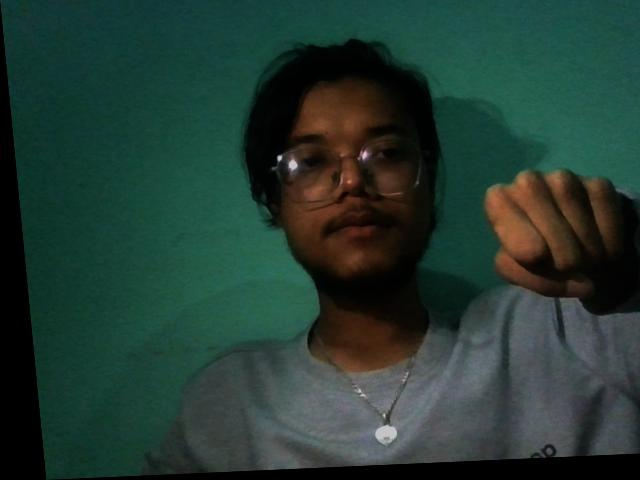Yes: (455, 149, 640, 334)
